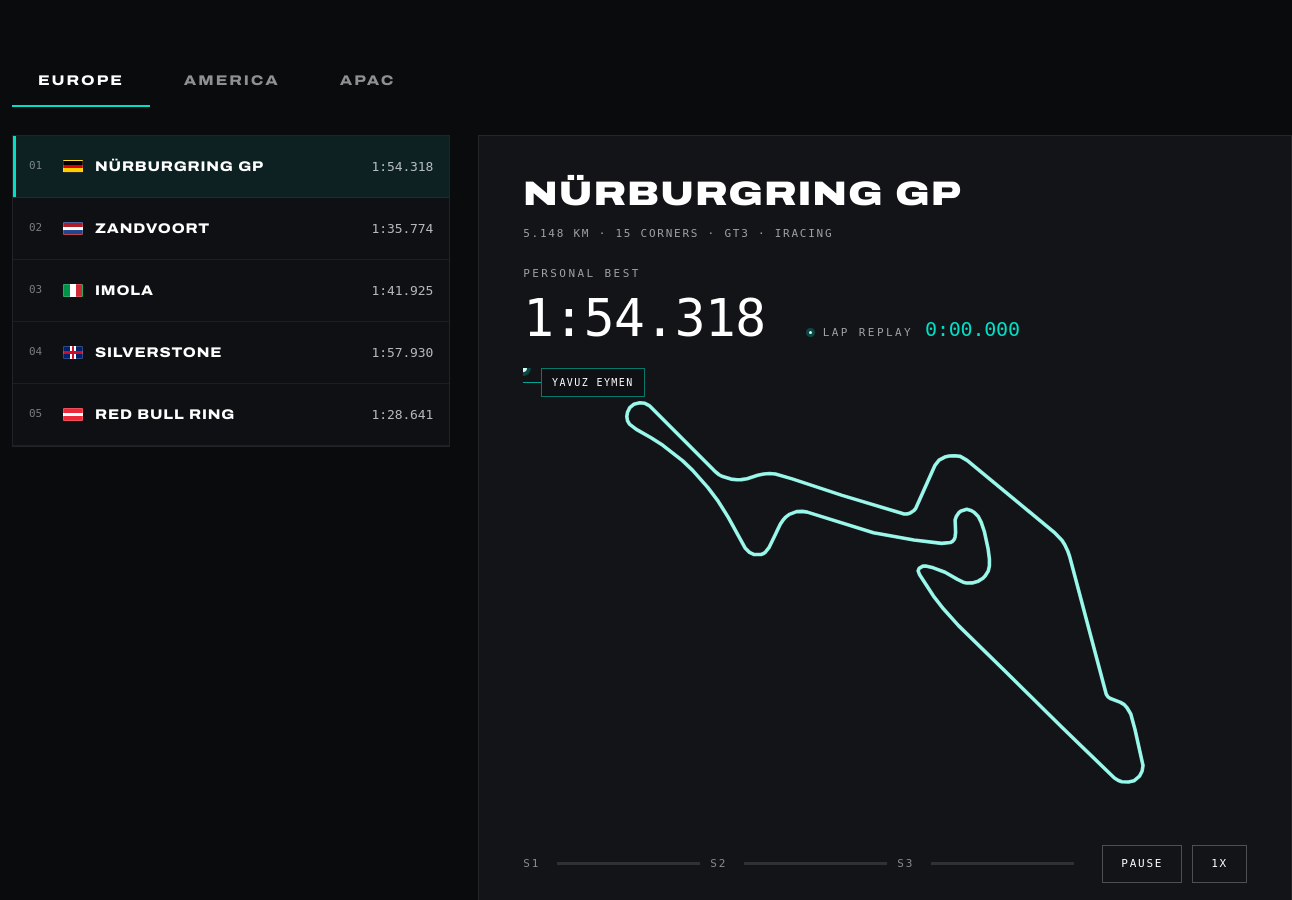
it: TrackRecords › circuit list › selecting Silverstone shows it in the panel and marks it current
Click the button "EUROPE" at (81, 82), box 12,56 -> 150,107
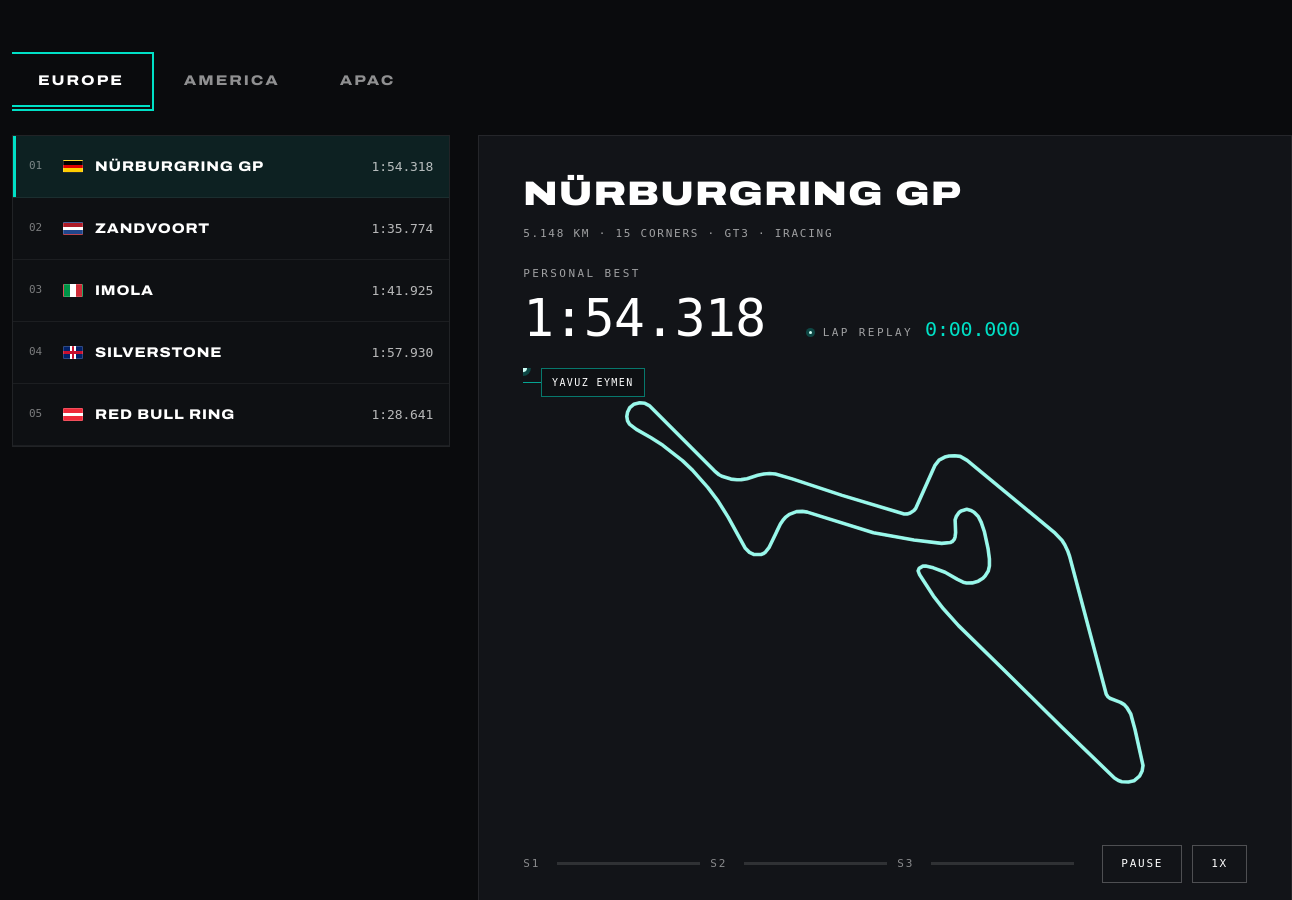
Click the button "04 Silverstone 1:57.930" at (159, 352), box 13,322 -> 449,384
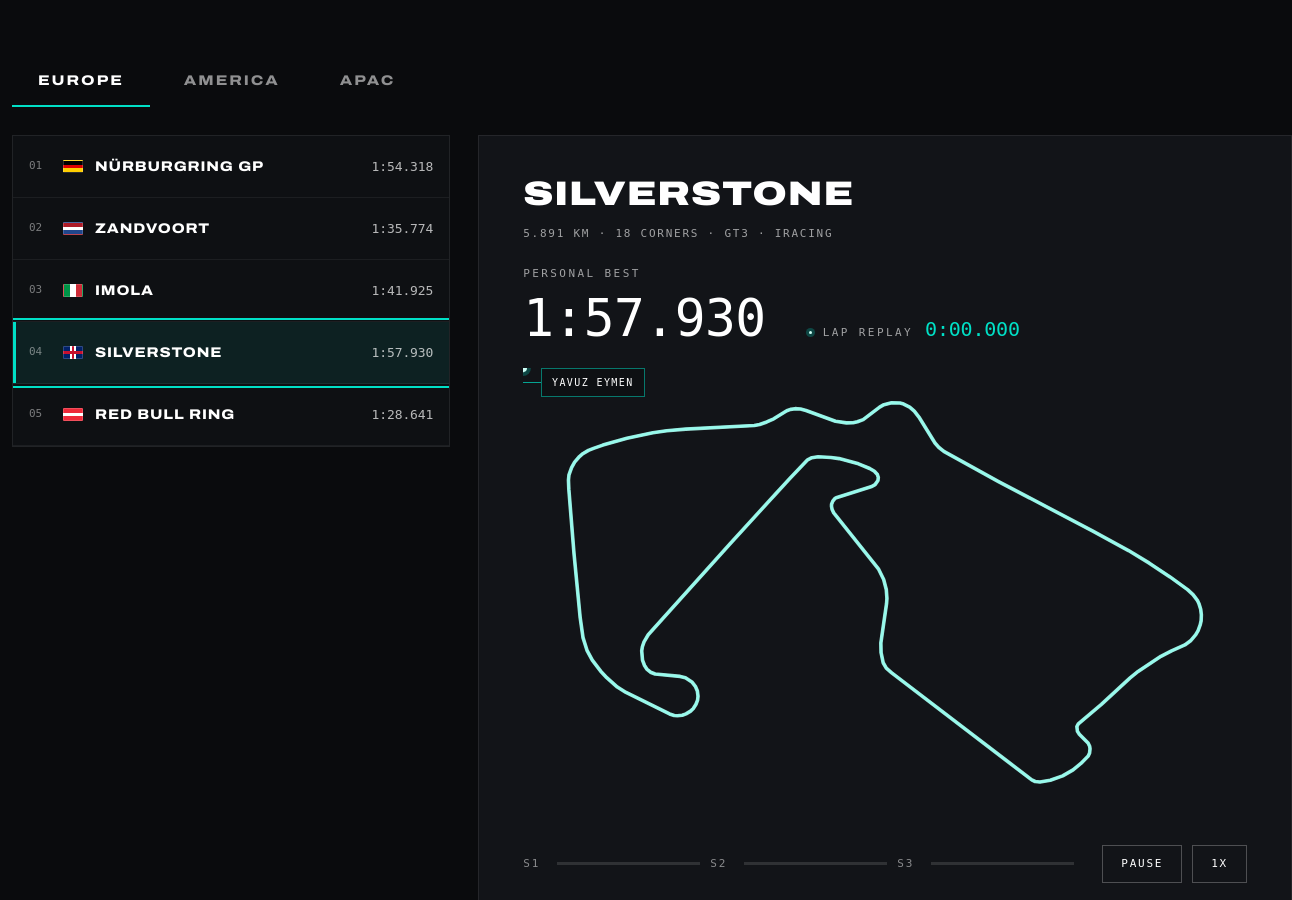
Check: the heading "Silverstone" is shown, box 523,175 -> 854,212
